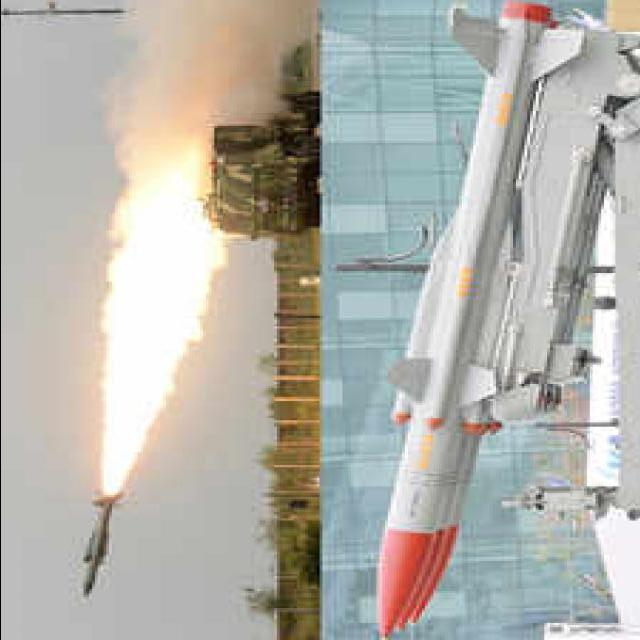missile: (410, 5, 540, 435), (68, 485, 128, 610)
